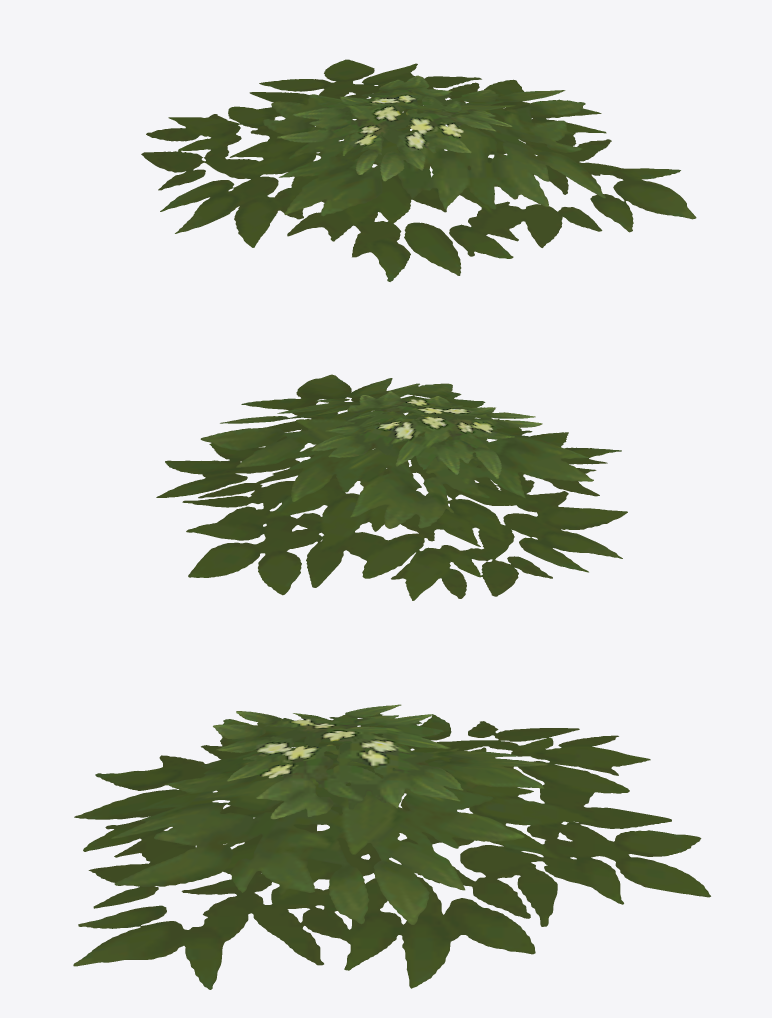
File: plant_city_zhiwu01.FBX
3 views of the same model, one above another, from view 1: azimuth 30°, elevation 25°; view 2: azimuth 150°, elevation 25°; view 3: azimuth 270°, elevation 25° (orthographic). The views are drawn at different scales.
Visible parts, largest first — view 1: Plane12; view 2: Plane12; view 3: Plane12.
Part boxes in pixels (left/top/right/bottom): Plane12: left=141, top=59, right=696, bottom=281; Plane12: left=156, top=374, right=627, bottom=600; Plane12: left=73, top=704, right=710, bottom=989.
Bounding box in the file's own units: 2.87 × 3.05 × 0.4948.
